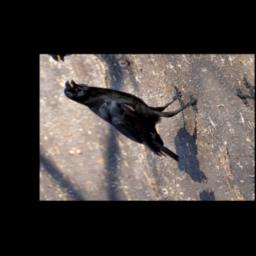Crow: (57, 66, 223, 172)
